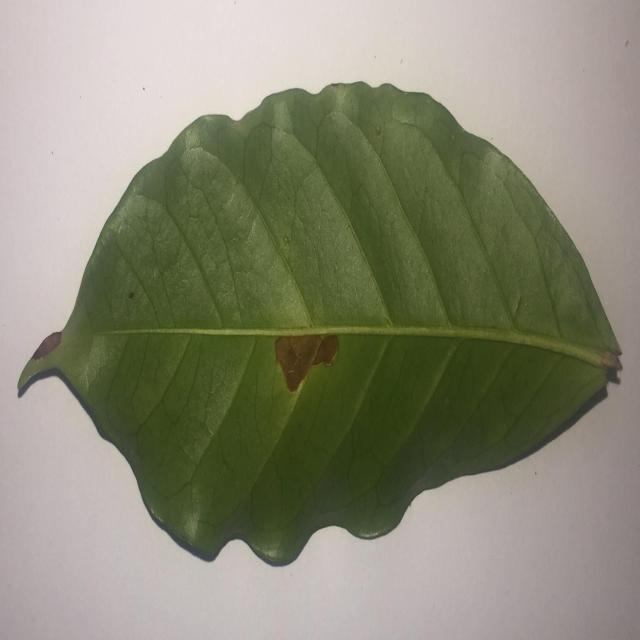Plaga-Minador: (16, 82, 622, 571)
